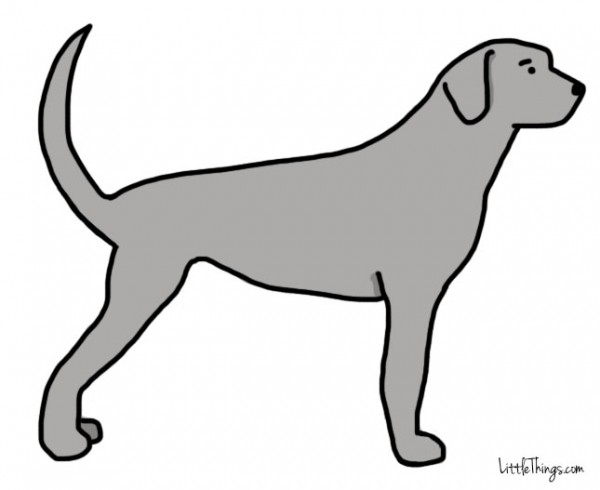tail: (15, 15, 117, 252)
